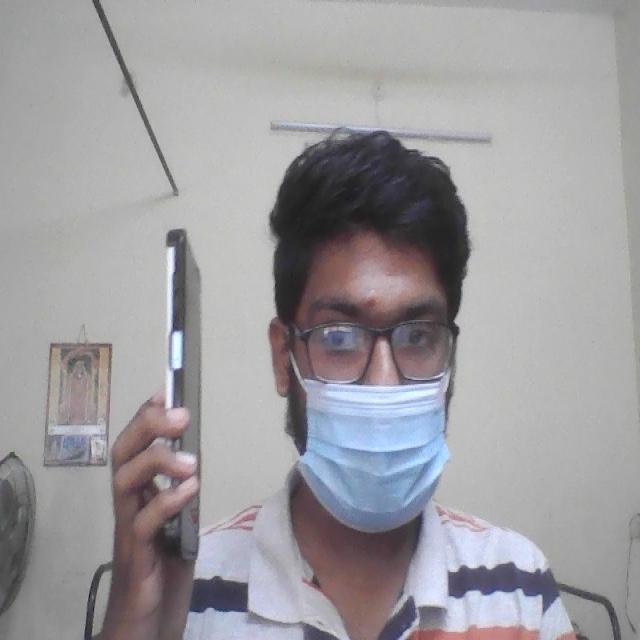Mobile: (165, 212, 209, 548)
